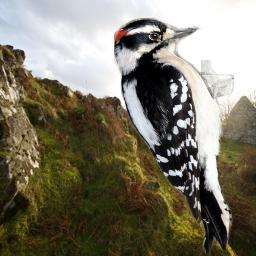Woodpecker: (114, 18, 234, 255)
